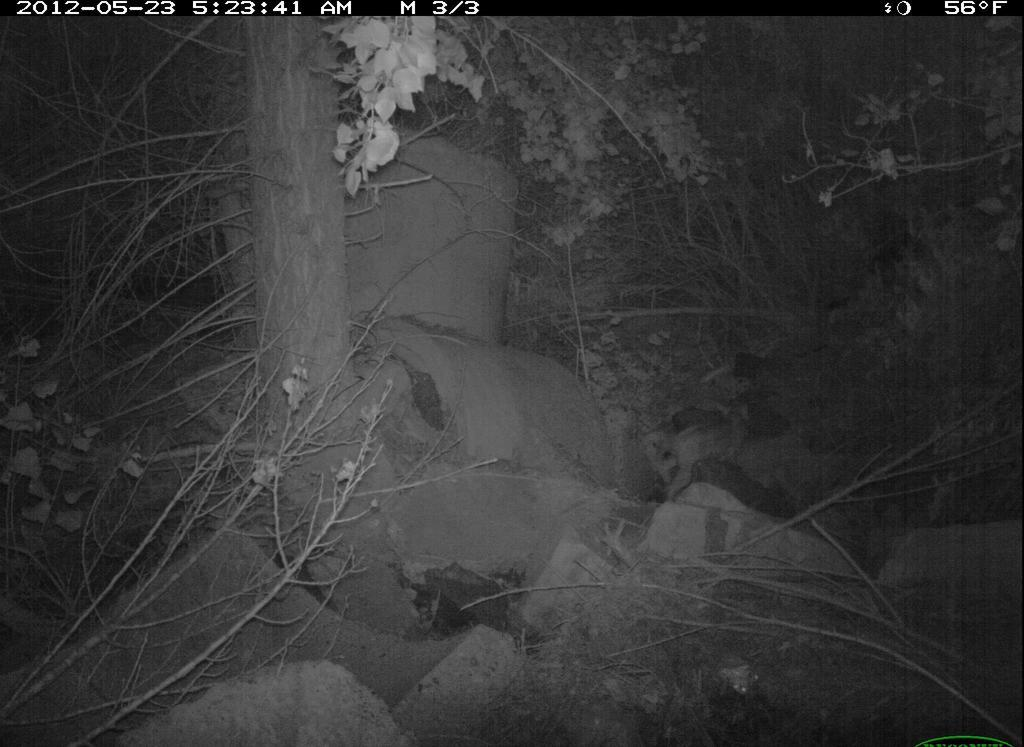bobcat: (648, 390, 769, 504)
